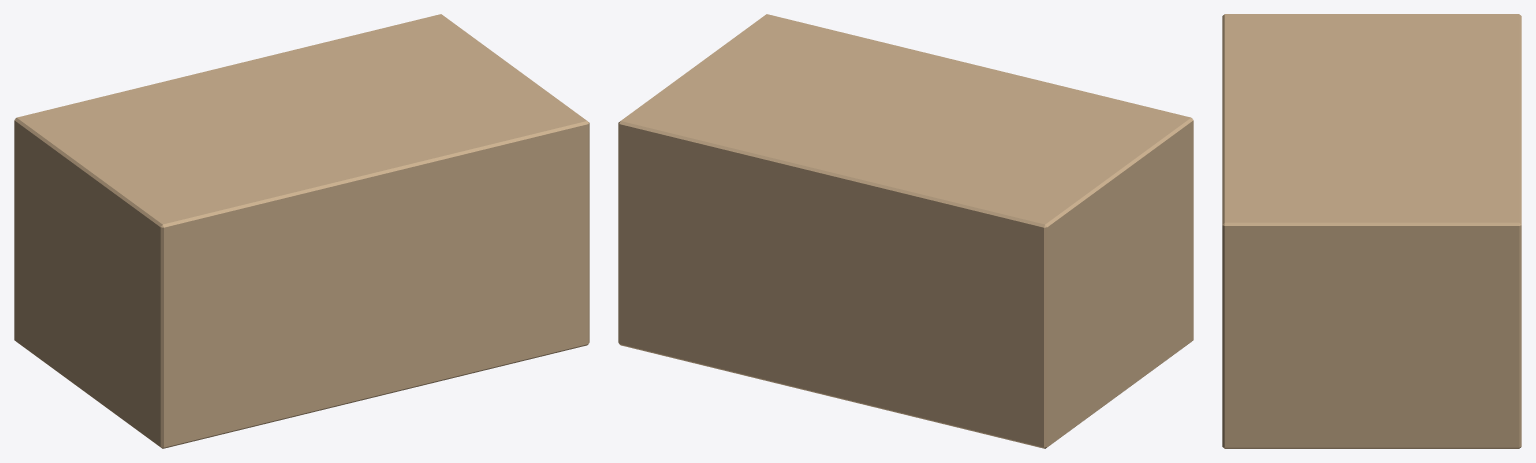
Rendered from prop_proxy_box_01.glb.
3 renders of one model, left to right at view 1: azimuth 30°, elevation 25°; view 2: azimuth 150°, elevation 25°; view 3: azimuth 270°, elevation 25°, orthographic.
Visible parts, largest first — view 1: prop_proxy_box_01; view 2: prop_proxy_box_01; view 3: prop_proxy_box_01.
Part boxes in pixels (bbox=[...]): prop_proxy_box_01: bbox=[14, 14, 589, 448]; prop_proxy_box_01: bbox=[618, 14, 1193, 448]; prop_proxy_box_01: bbox=[1222, 14, 1521, 448].
Bounding box in the file's own units: 0.2 × 0.1 × 0.12.
